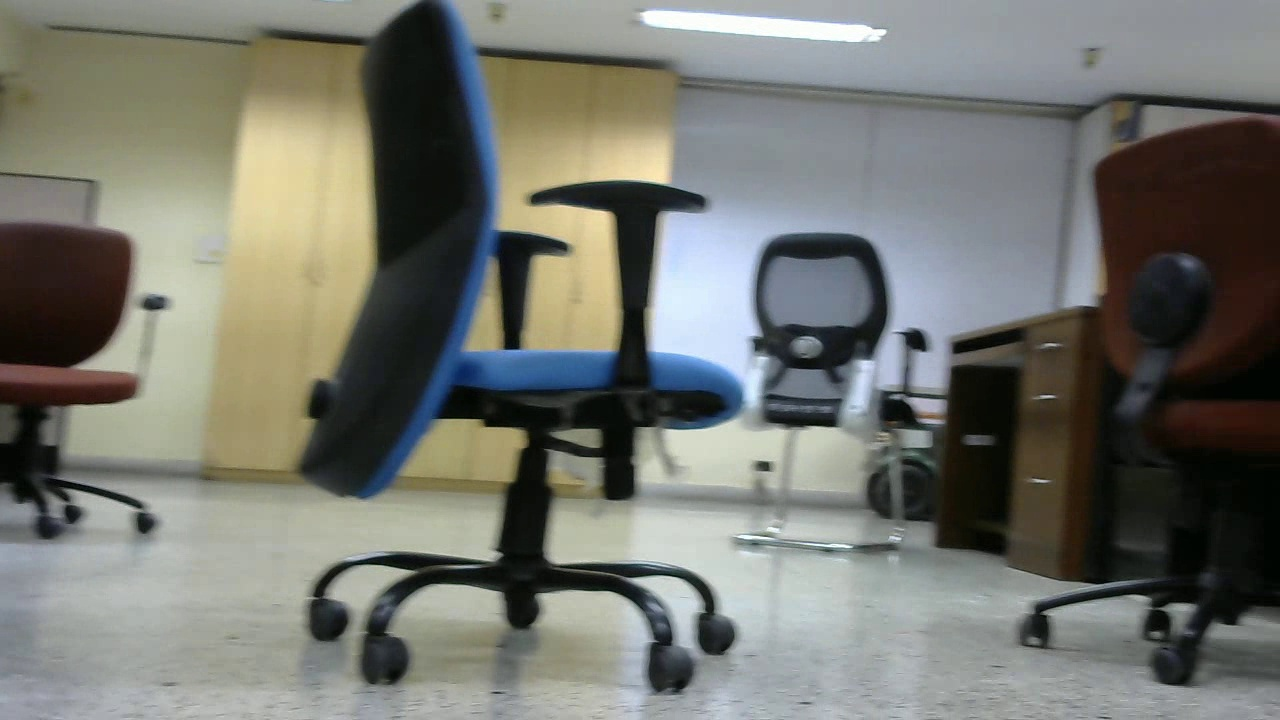chair: (311, 7, 729, 694), (1073, 107, 1280, 687), (736, 234, 912, 557), (1, 217, 159, 536)
